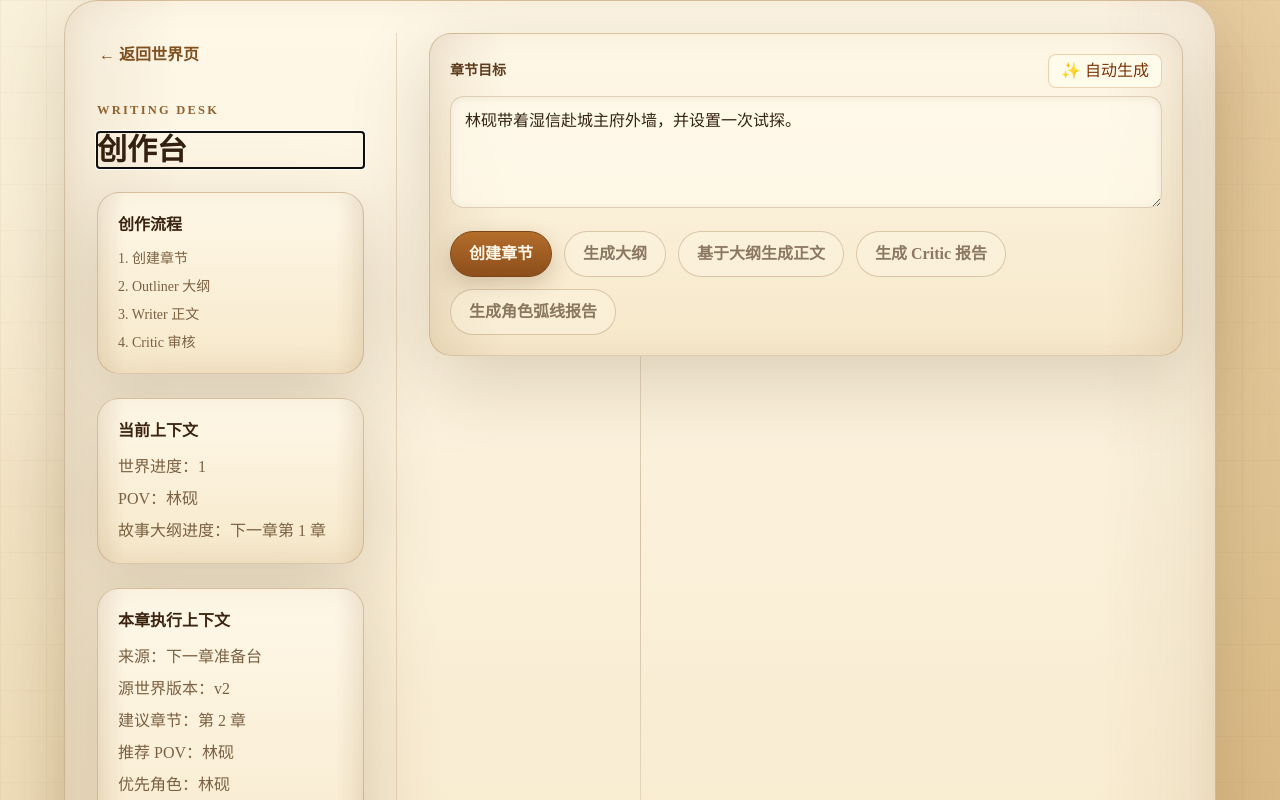
Scenario: StudioPage Review Studio 2.0 controls › shows launch execution context summary and submits edited context when creating chapter
Check: the heading "本章执行上下文" is shown, box [118,612,230,629]
Check: the text "来源：下一章准备台" is shown, box [118,648,262,665]
Replace the text in the text box labelled "章节目标" with "用户编辑后的执行目标": (806, 152) [450,96,1162,208]
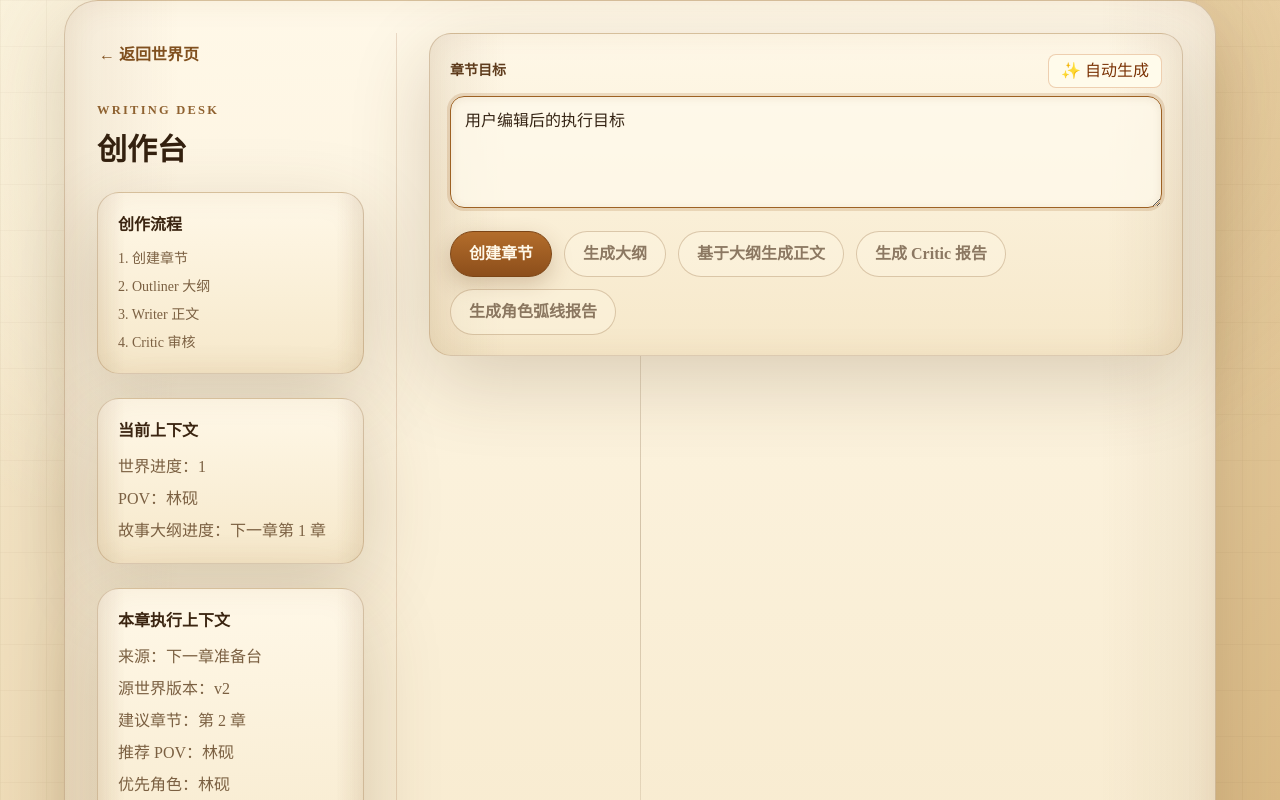
Click the button "创建章节": (501, 254) [450,231,552,277]
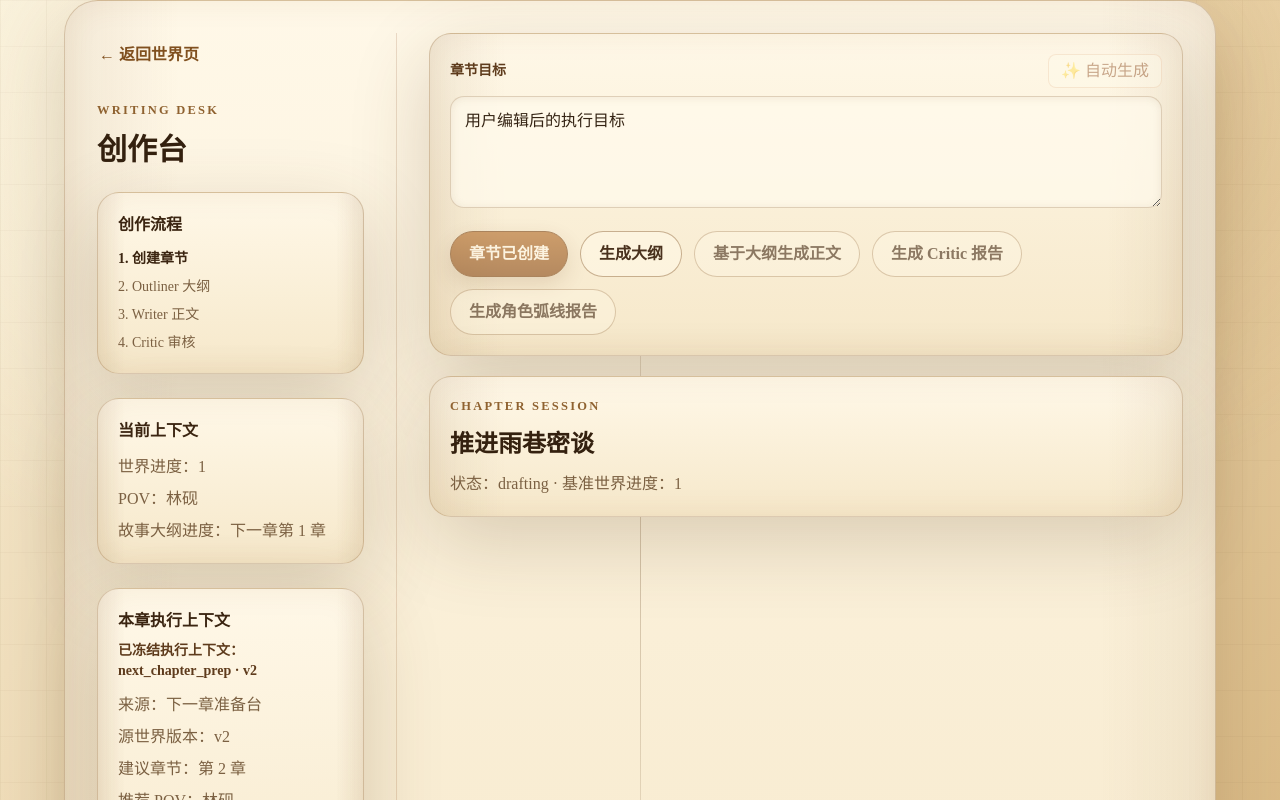
Check: the text "已冻结执行上下文：next_chapter_prep · v2" is shown, box [118,643,257,678]
